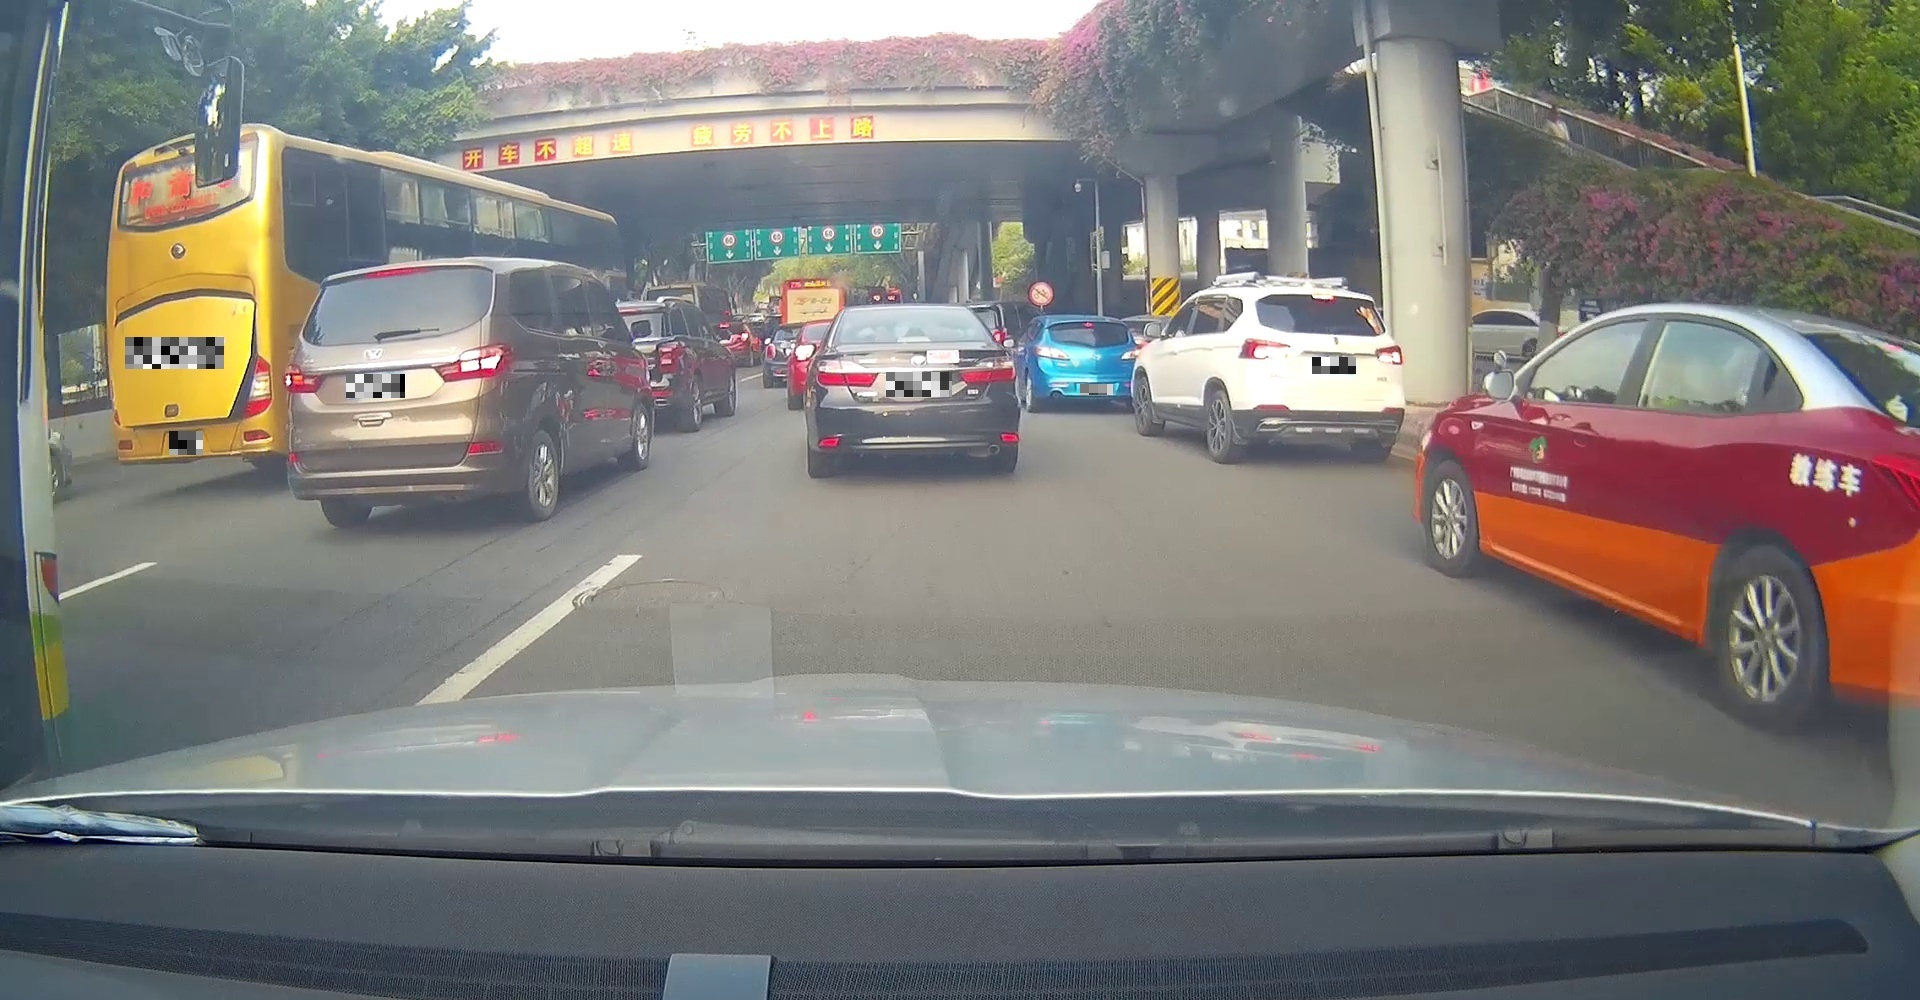L_light: (814, 359, 877, 388), (1238, 338, 1291, 362), (283, 373, 329, 393), (1034, 345, 1072, 360), (108, 385, 119, 426)
R_light: (433, 341, 512, 385), (241, 354, 272, 419), (960, 355, 1015, 385), (1375, 344, 1404, 365), (1121, 346, 1140, 360)
T_light: (143, 202, 221, 225), (364, 264, 423, 279), (897, 335, 932, 343), (1310, 294, 1336, 302), (1081, 321, 1095, 329)
day-brake: (282, 258, 516, 527), (1232, 286, 1406, 459), (1030, 316, 1144, 418)
day-no: (105, 122, 278, 484), (804, 305, 1020, 475)
plate_1: (124, 338, 223, 369)
plate_2: (169, 431, 203, 456)
plate_3: (345, 374, 405, 398)
plate_4: (886, 372, 952, 397)
plate_5: (1079, 385, 1112, 395)
plate_6: (1312, 357, 1356, 374)
